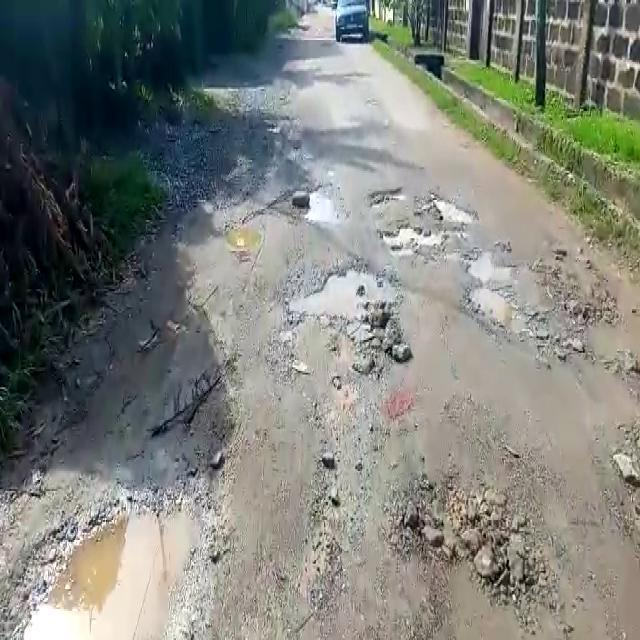pothole: (2, 496, 222, 637), (285, 266, 393, 312), (381, 220, 446, 253), (465, 285, 510, 323), (431, 196, 479, 229), (302, 185, 345, 221), (468, 252, 518, 282), (226, 216, 265, 252)
